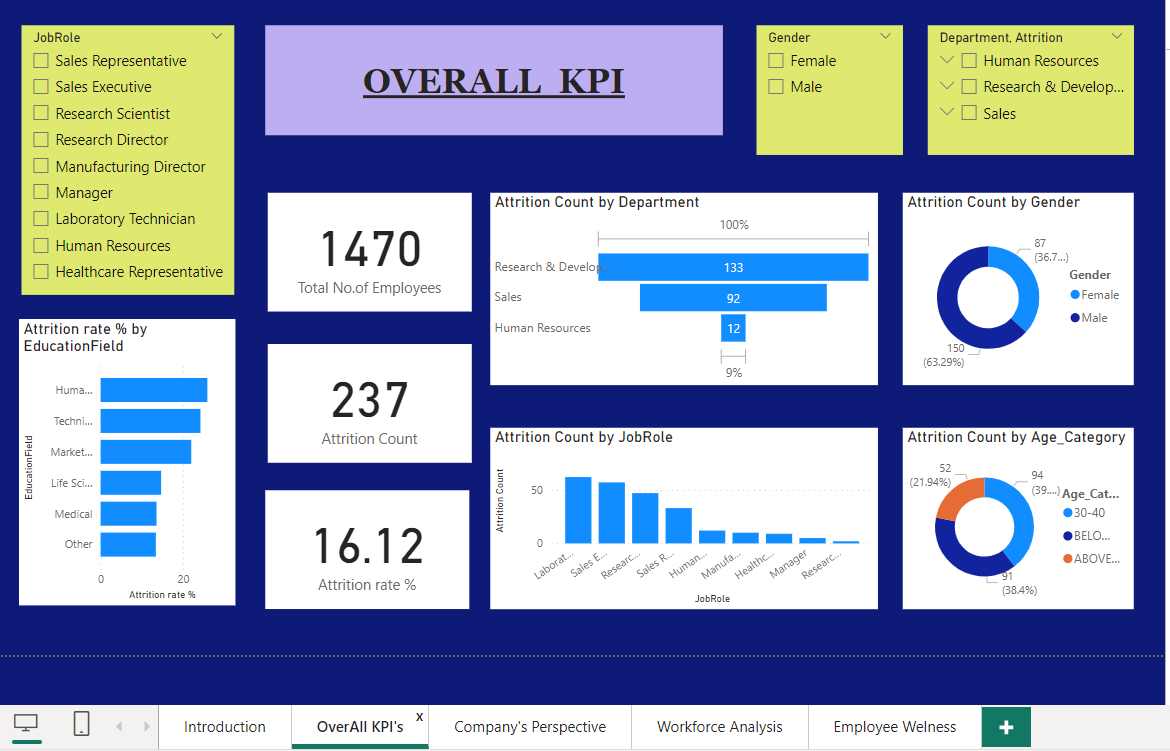

Layout of this report page (visuals, bound fields, positions):
{"tool":"powerbi","page":{"name":"OverAll KPI's","canvas":[1280,720],"ordinal":1},"visuals":[{"type":"card","fields":{"Values":["Key Measures (2).Total No.of Employees"]},"box":[295,212.7,223.7,130.4],"z":0},{"type":"donutChart","fields":{"Y":["Key Measures (2).Attrition Count"],"Series":["HR-Employee-Attrition.Gender"]},"box":[992.1,212.7,253.9,211.3],"z":1000},{"type":"clusteredColumnChart","fields":{"Category":["HR-Employee-Attrition.JobRole"],"Y":["Key Measures (2).Attrition Count"]},"box":[539.3,470.7,425.4,199],"z":2000},{"type":"slicer","fields":{"Values":["HR-Employee-Attrition.Gender"]},"box":[831.6,28.8,160.5,142.7],"z":3000},{"type":"slicer","fields":{"Values":["HR-Employee-Attrition.Department","HR-Employee-Attrition.Attrition"]},"box":[1019.6,28.8,226.4,142.7],"z":4000},{"type":"funnel","fields":{"Category":["HR-Employee-Attrition.Department"],"Y":["Key Measures (2).Attrition Count"]},"box":[539.3,212.7,425.4,211.3],"z":5000},{"type":"donutChart","fields":{"Y":["Key Measures (2).Attrition Count"],"Category":["HR-Employee-Attrition.Age_Category"]},"box":[992.1,470.7,253.9,199],"z":6000},{"type":"card","fields":{"Values":["Key Measures (2).Attrition Count"]},"box":[295,378.7,223.7,130.4],"z":7000},{"type":"card","fields":{"Values":["Key Measures (2).Attrition rate %"]},"box":[292.3,539.3,223.7,130.4],"z":8000},{"type":"textbox","box":[292.3,28.8,502.2,120.8],"z":9000},{"type":"slicer","fields":{"Values":["HR-Employee-Attrition.JobRole"]},"box":[24.7,28.8,233.3,296.4],"z":10000},{"type":"clusteredBarChart","fields":{"Category":["HR-Employee-Attrition.EducationField"],"Y":["Key Measures (2).Attrition rate %"]},"box":[22,351.3,237.4,314.2],"z":11000}]}

Visuals, with their boxes in screenshot pixels (x1, y1, x2, y2):
card - Key Measures (2).Total No.of Employees: BBox(269, 192, 471, 309)
donutChart - Key Measures (2).Attrition Count x HR-Employee-Attrition.Gender: BBox(897, 192, 1126, 382)
clusteredColumnChart - HR-Employee-Attrition.JobRole x Key Measures (2).Attrition Count: BBox(489, 424, 873, 604)
slicer - HR-Employee-Attrition.Gender: BBox(753, 26, 897, 155)
slicer - HR-Employee-Attrition.Department x HR-Employee-Attrition.Attrition: BBox(922, 26, 1126, 155)
funnel - HR-Employee-Attrition.Department x Key Measures (2).Attrition Count: BBox(489, 192, 873, 382)
donutChart - Key Measures (2).Attrition Count x HR-Employee-Attrition.Age_Category: BBox(897, 424, 1126, 604)
card - Key Measures (2).Attrition Count: BBox(269, 341, 471, 459)
card - Key Measures (2).Attrition rate %: BBox(267, 486, 468, 604)
textbox: BBox(267, 26, 719, 135)
slicer - HR-Employee-Attrition.JobRole: BBox(25, 26, 236, 293)
clusteredBarChart - HR-Employee-Attrition.EducationField x Key Measures (2).Attrition rate %: BBox(23, 317, 237, 600)
